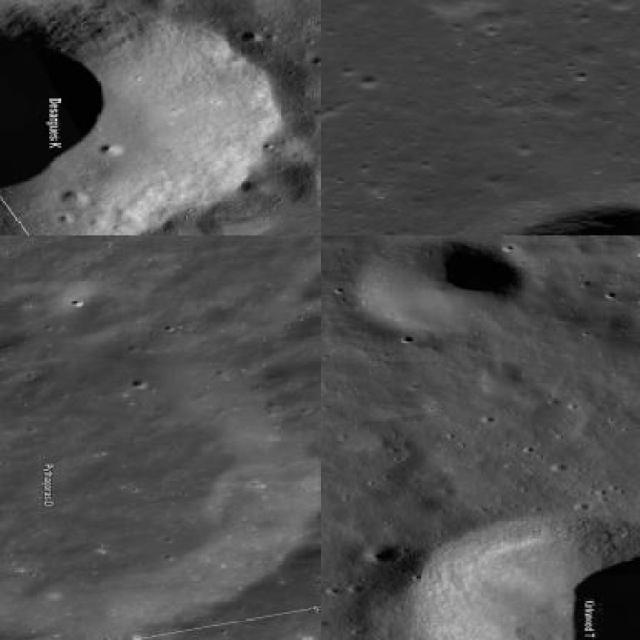crater: (0, 324, 318, 630), (0, 0, 286, 234), (423, 517, 639, 638), (360, 240, 526, 334), (368, 546, 402, 565)
